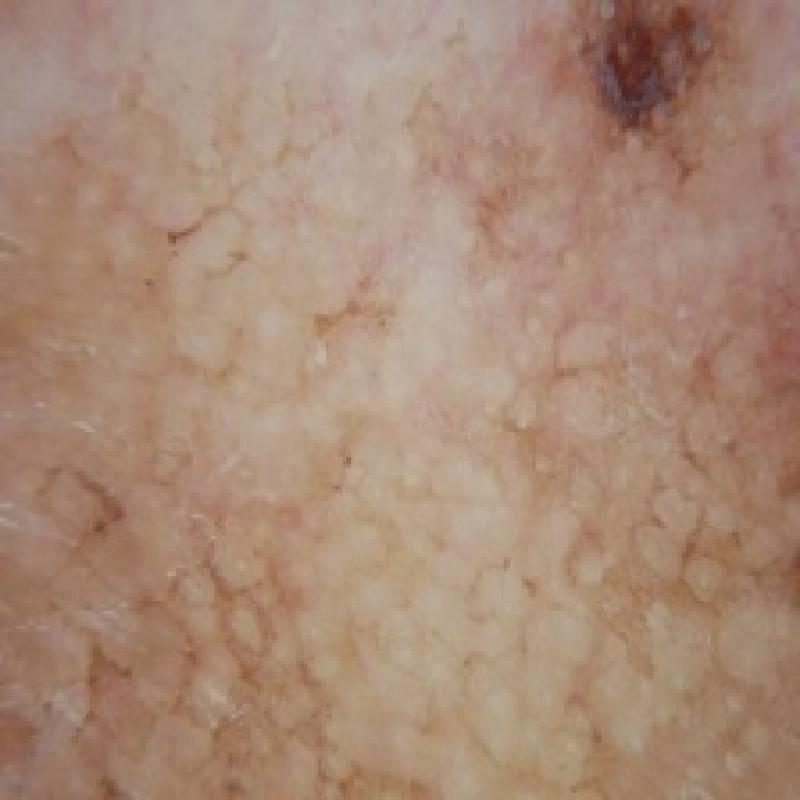malignant: (554, 0, 754, 190)
